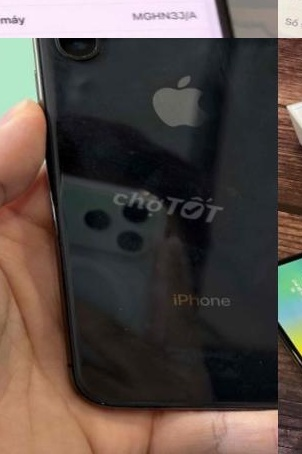scratch: (81, 288, 154, 353), (227, 334, 278, 382)
